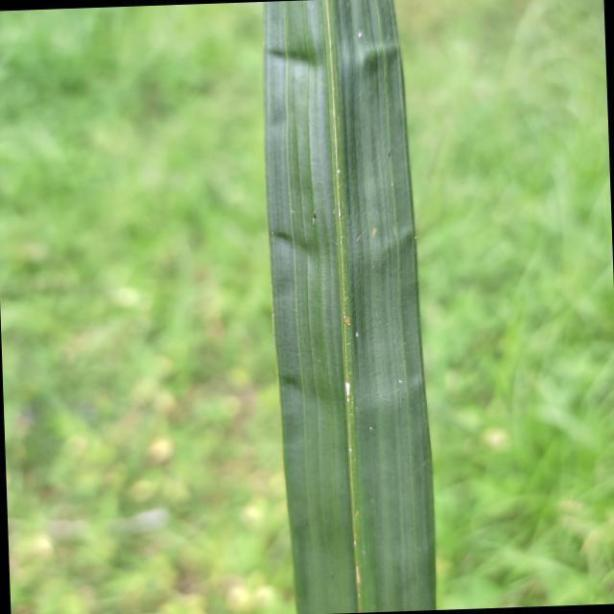Boron: (259, 0, 435, 614)
